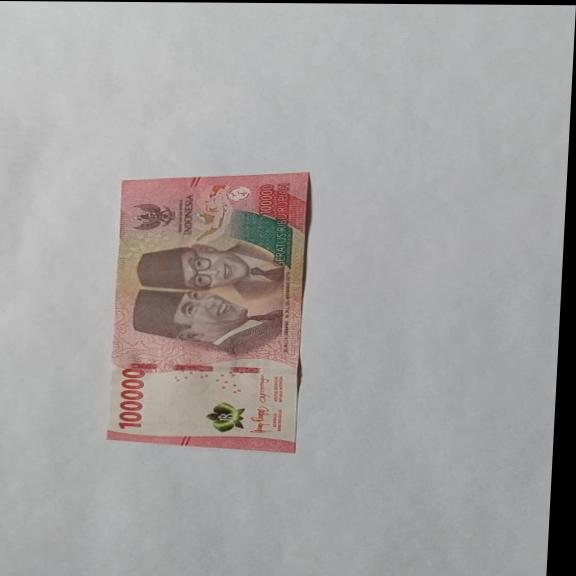Kertas: (103, 169, 314, 453)
